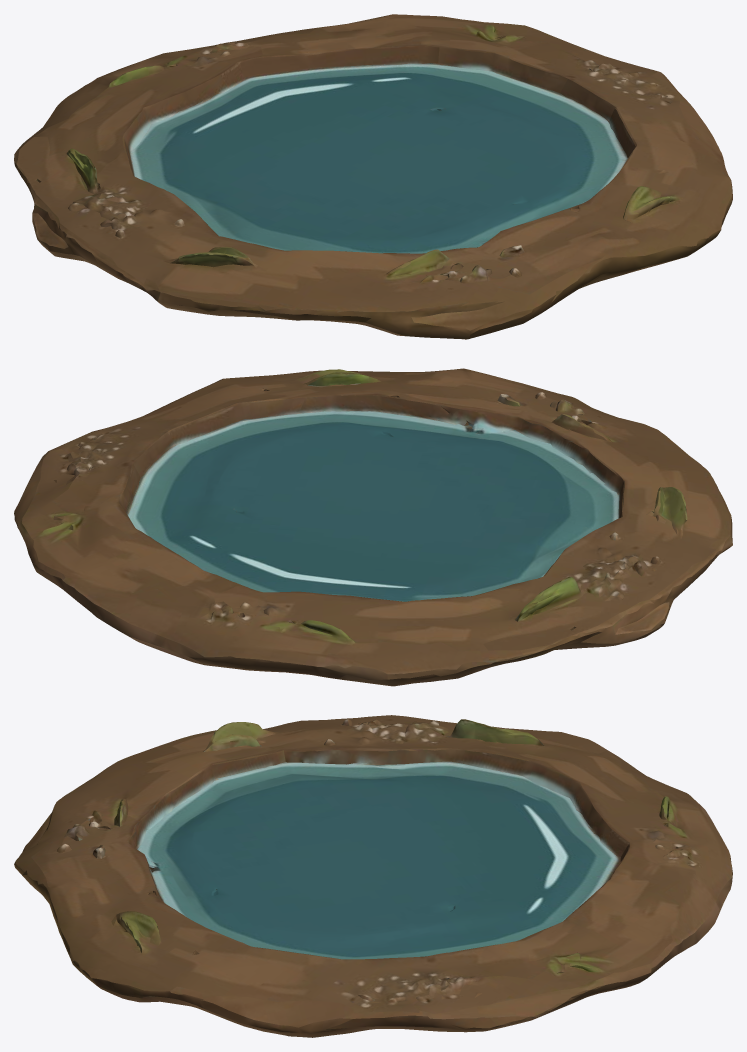
The model's file is lake_pond.glb.
3 renders of one model, top to bottom at view 1: azimuth 30°, elevation 25°; view 2: azimuth 150°, elevation 25°; view 3: azimuth 270°, elevation 25°, orthographic.
Visible parts, largest first — view 1: geometry_0; view 2: geometry_0; view 3: geometry_0.
Part boxes in pixels (x1,y1,x2,y2): geometry_0: (14, 14, 732, 339); geometry_0: (14, 368, 732, 686); geometry_0: (14, 715, 732, 1037).
Bounding box in the file's own units: 2 × 0.2293 × 1.99.
Materials: 1 (1 with a texture image).
